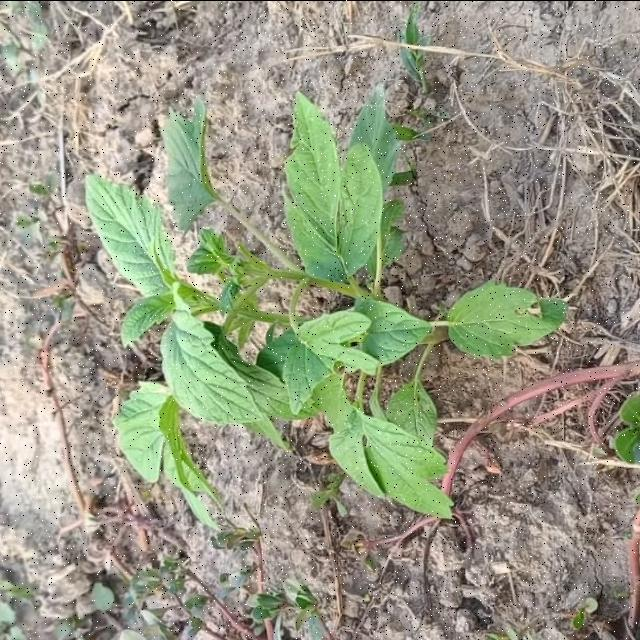plant: (86, 92, 568, 523)
